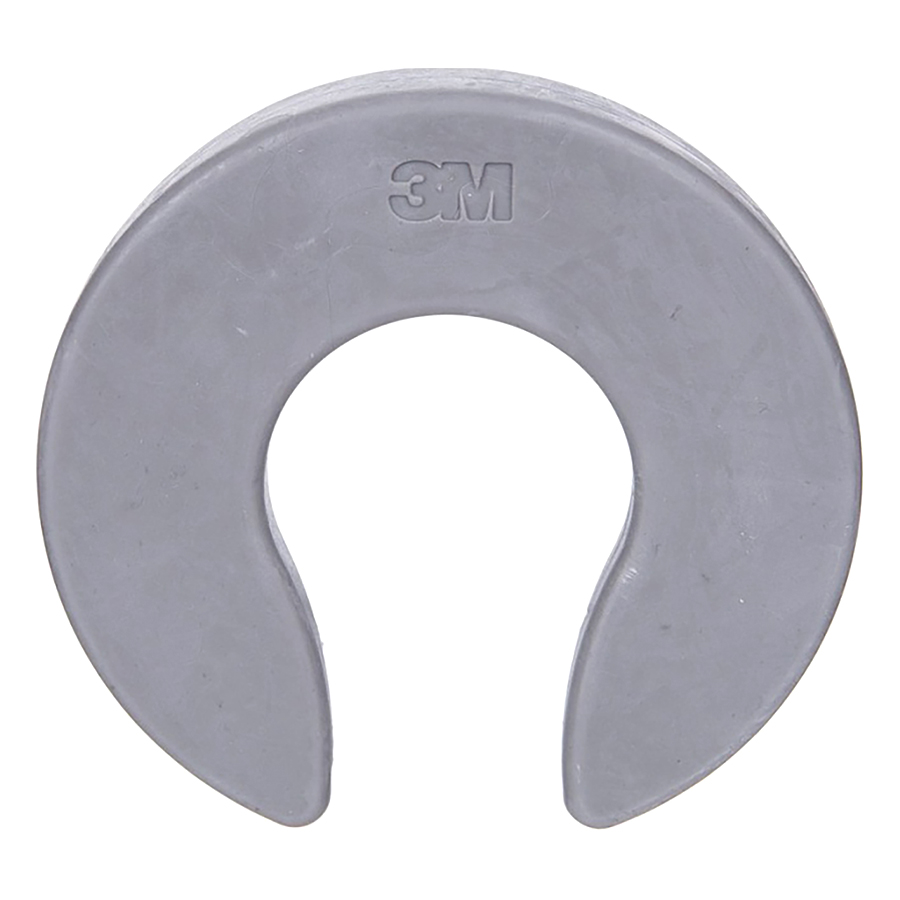3M: (385, 144, 521, 229)
